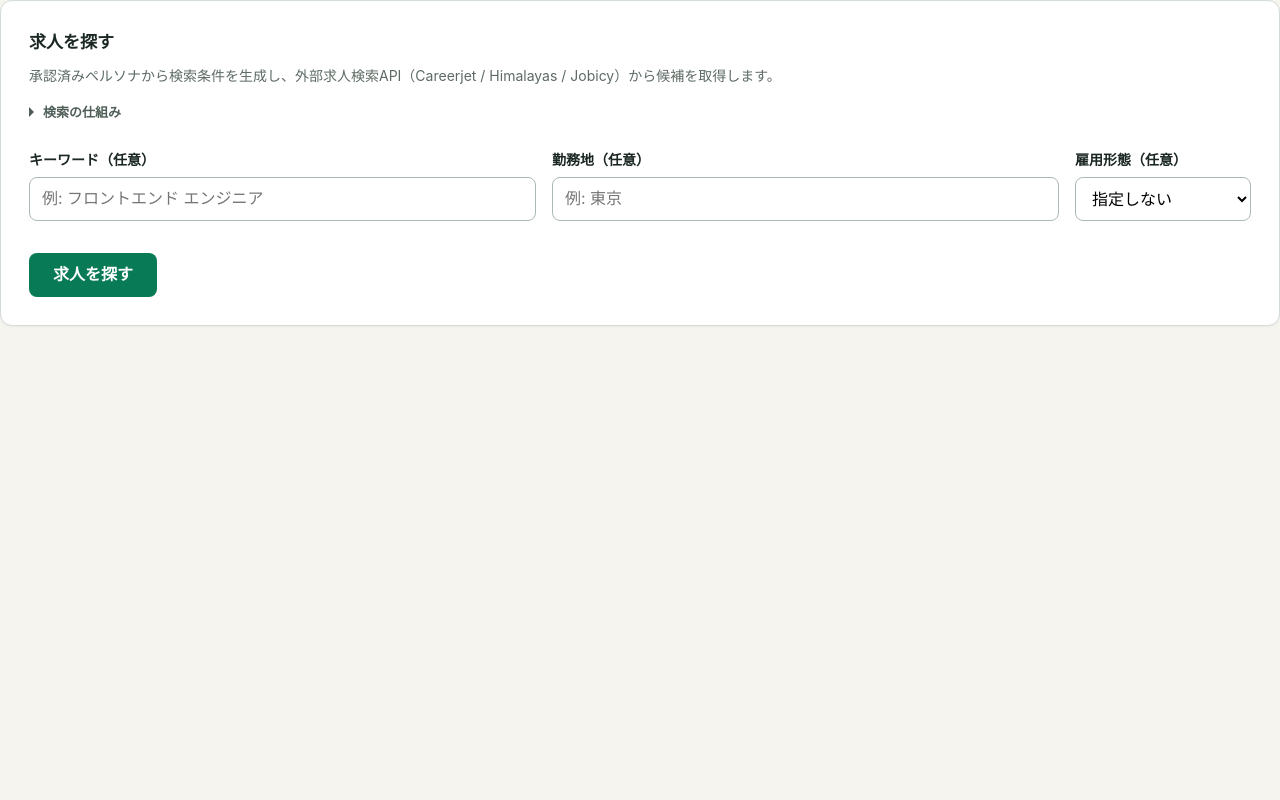
JobDiscovery bulk import (#116) › partial success keeps failed selected for retry
This screenshot has width=1280, height=800.
What coordinates should you click on to do the following:
click the button "求人を探す"
I would click on:
 (93, 275)
Its box is [29, 253, 157, 297].
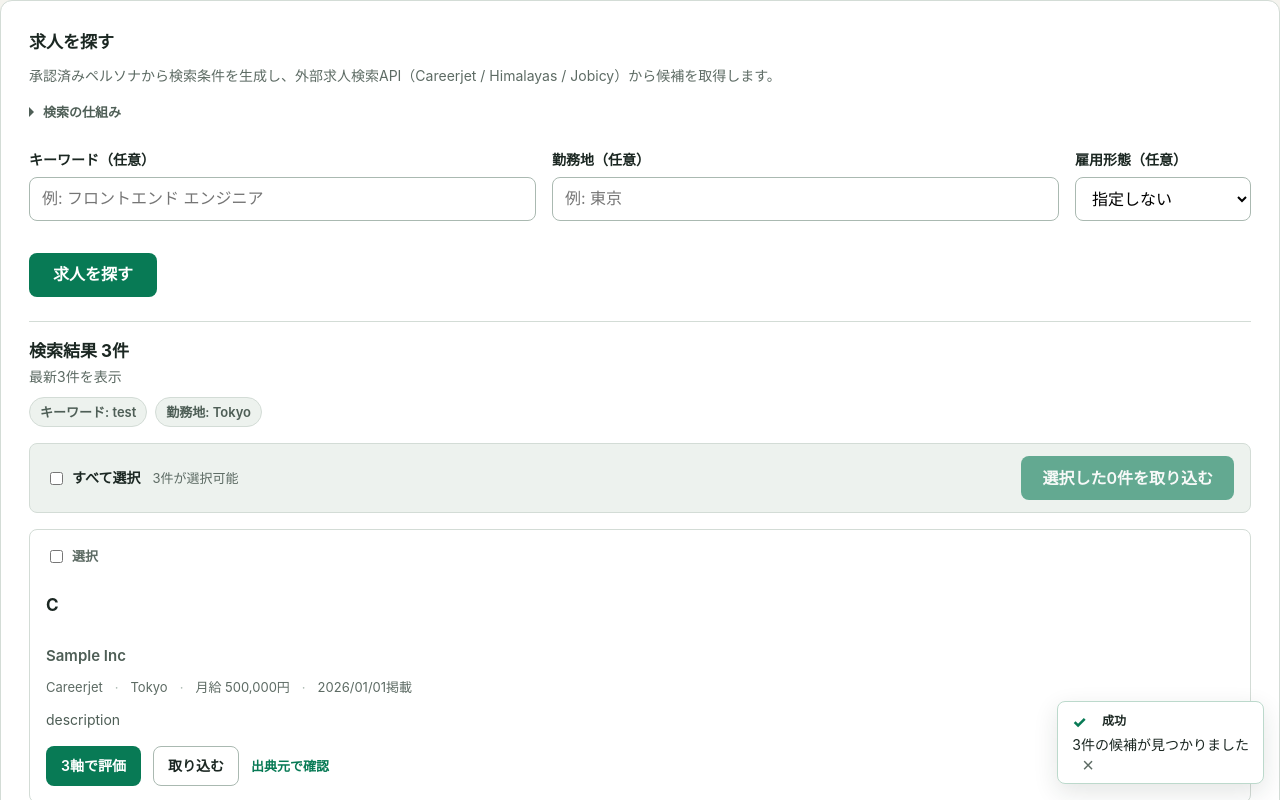
Now the heading "C" is shown, box [46, 595, 59, 615]
What coordinates should you click on to do the following:
click the checkbox named "C を選択"
I would click on:
 (56, 557)
Its box is [50, 550, 63, 563].
(page scrolled)
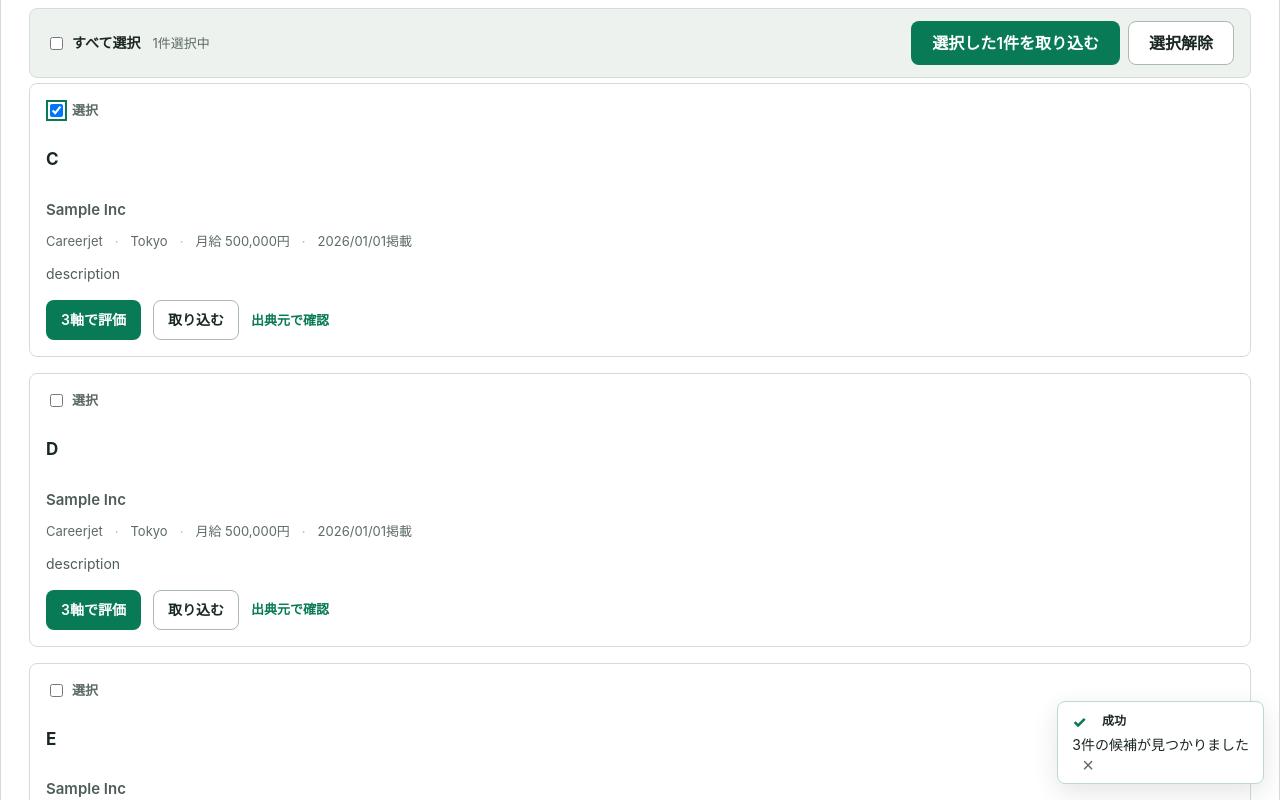
What coordinates should you click on to do the following:
click the checkbox named "D を選択"
I would click on:
 (56, 400)
Its box is [50, 394, 63, 407].
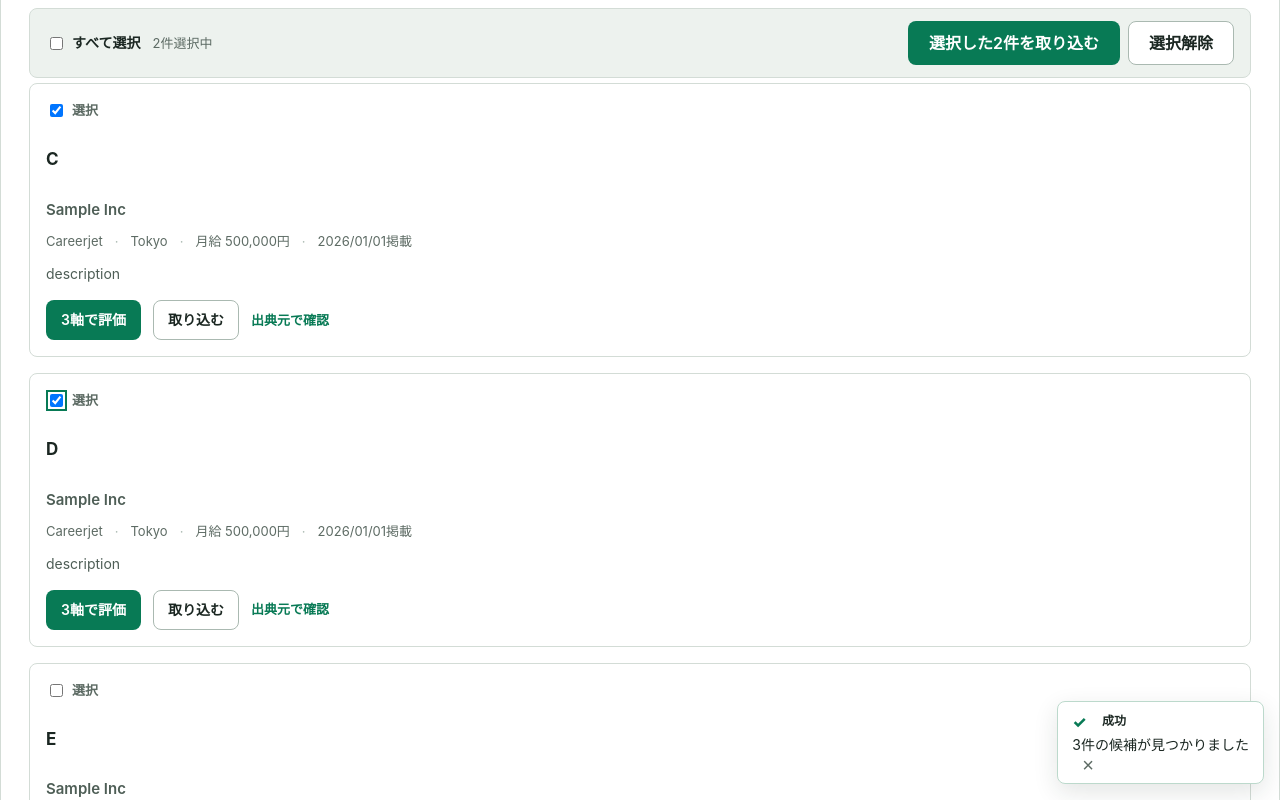
What coordinates should you click on to do the following:
click the checkbox named "E を選択"
I would click on:
 (56, 690)
Its box is [50, 684, 63, 697].
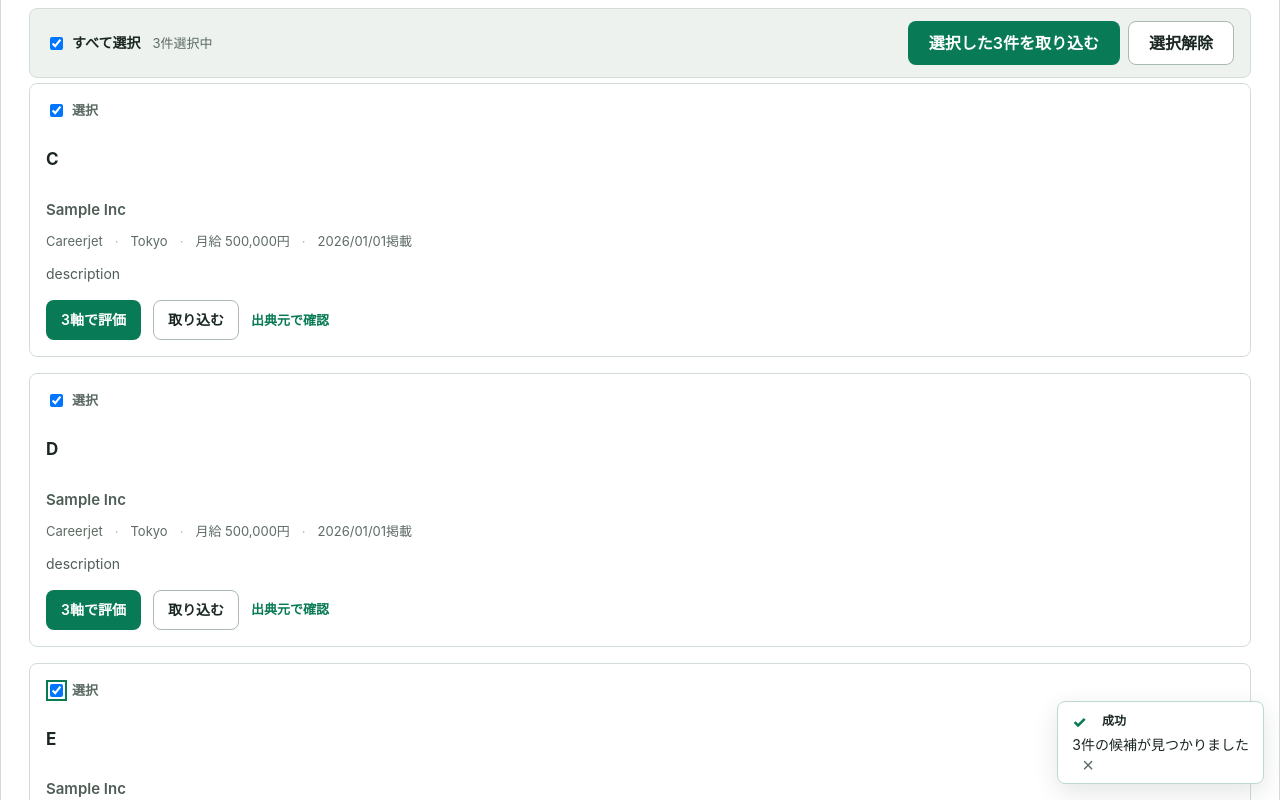
What coordinates should you click on to do the following:
click the button "選択した3件を取り込む"
I would click on:
 (1014, 43)
Its box is [908, 21, 1120, 65].
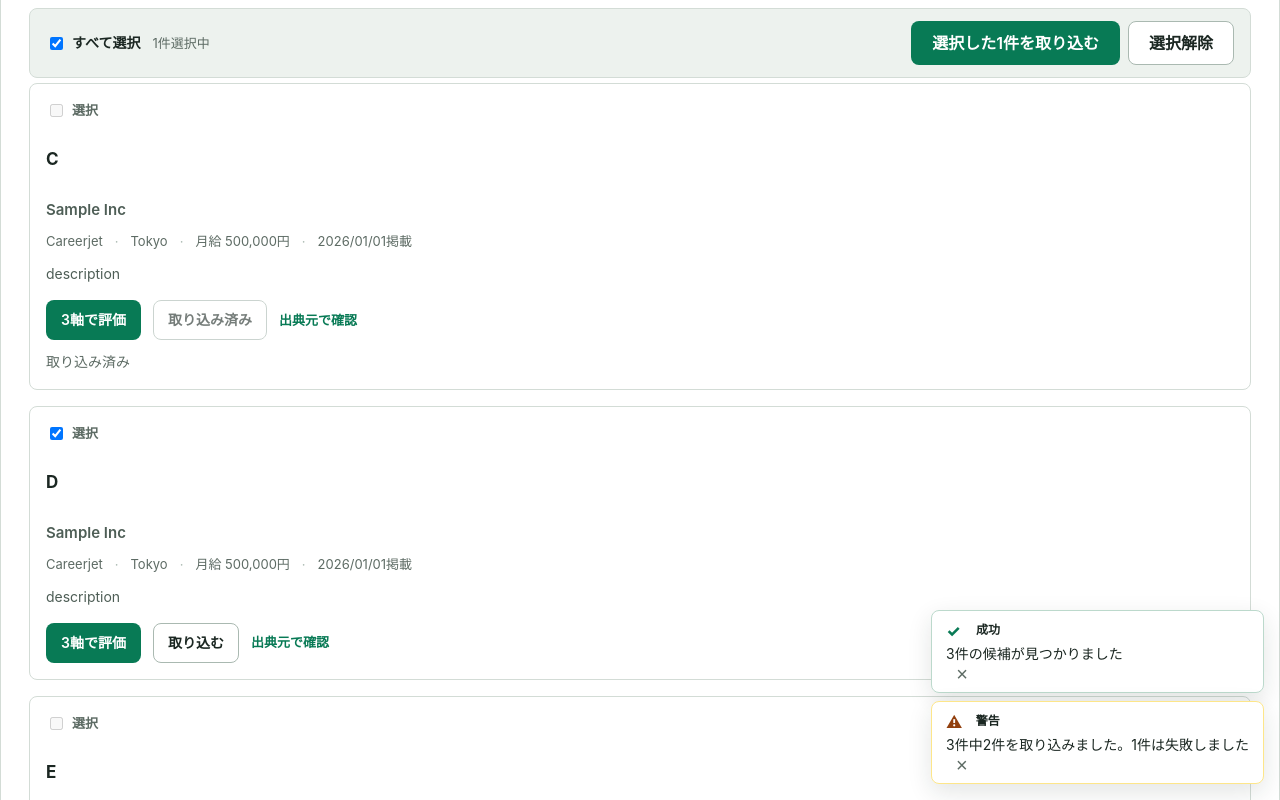
Now the text "1件選択中" is shown, box [152, 33, 210, 53]
